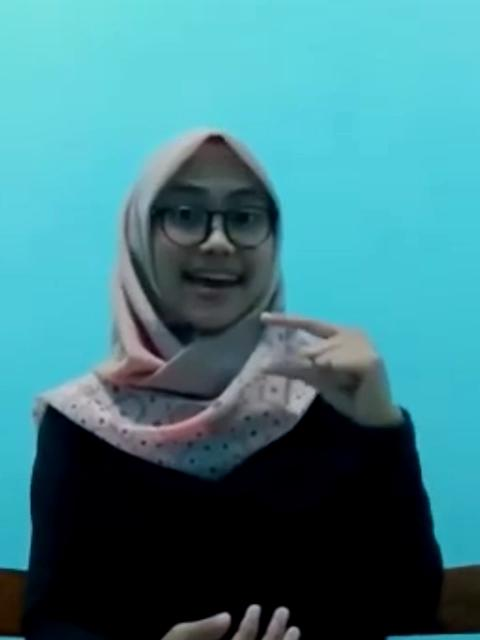G: (255, 314, 393, 416)
